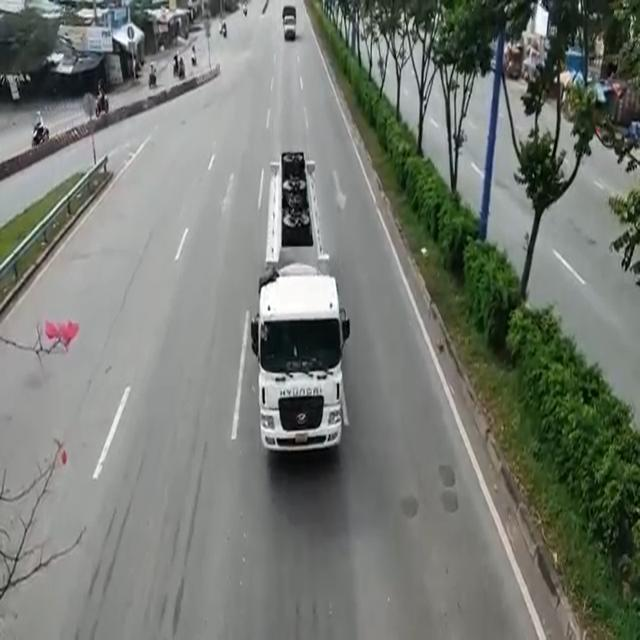truck: (259, 152, 345, 458)
